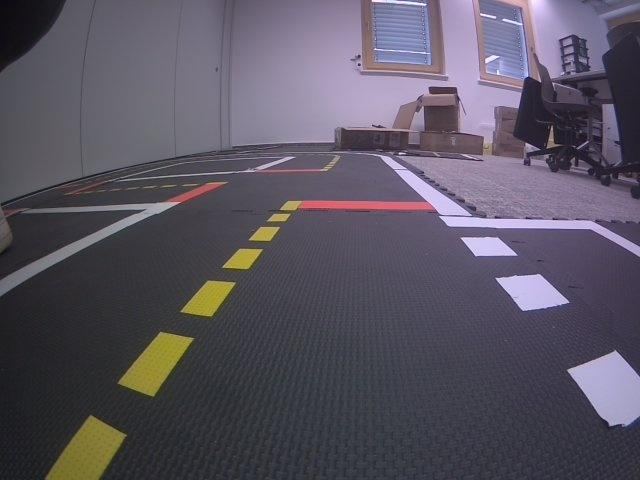park: (442, 216, 639, 426)
